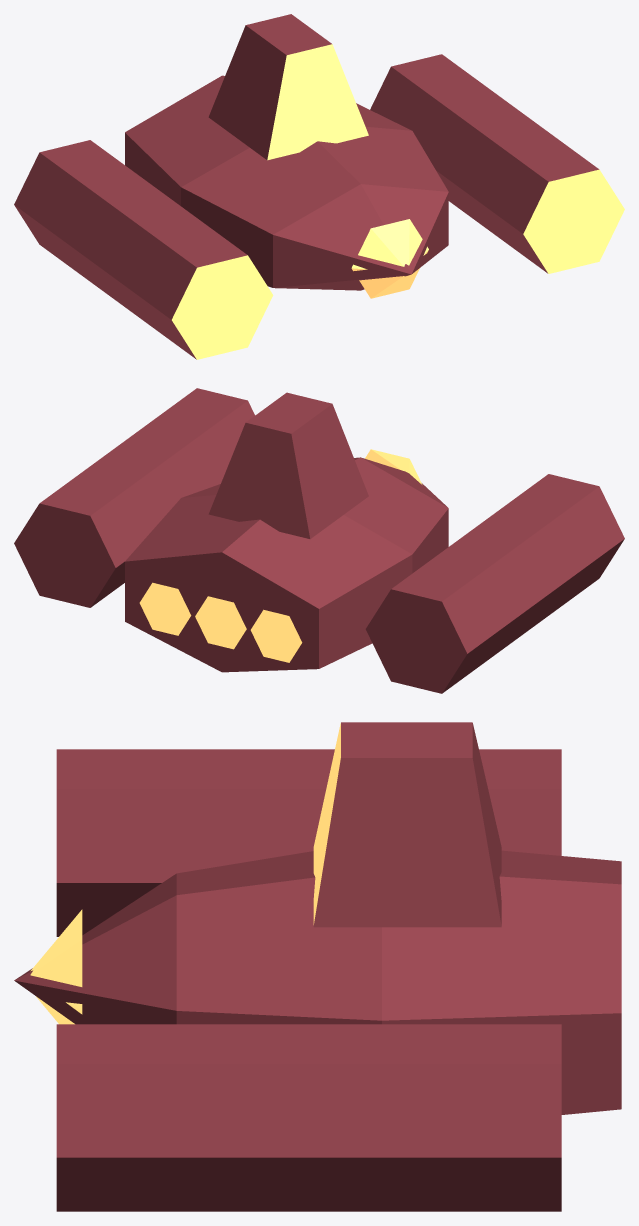
The model's file is boss.glb.
3 renders of one model, top to bottom at view 1: azimuth 30°, elevation 25°; view 2: azimuth 150°, elevation 25°; view 3: azimuth 270°, elevation 25°, orthographic. The views are drawn at different scales.
Visible parts, largest first — view 1: Boss; view 2: Boss; view 3: Boss.
Boxes of the visible parts, left/top/right/bottom form: Boss: left=14, top=14, right=624, bottom=359; Boss: left=14, top=388, right=624, bottom=693; Boss: left=14, top=722, right=621, bottom=1211.
Size of the model in its own units: 4.9 by 2.27 by 3.57.
